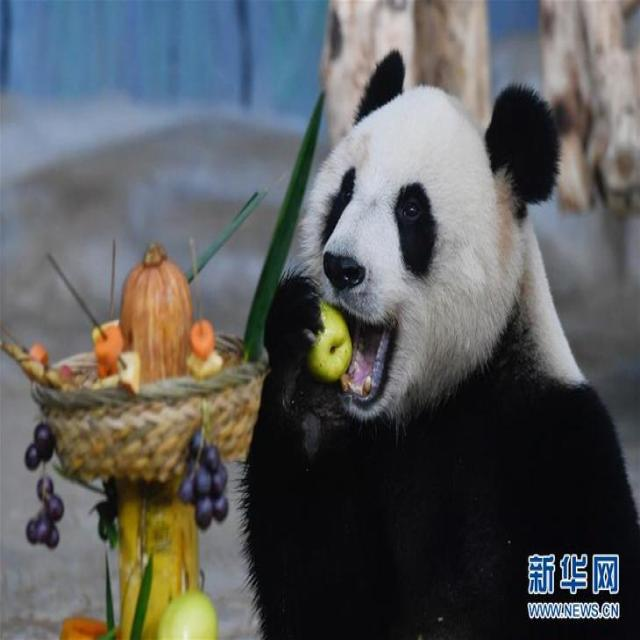panda: (218, 66, 580, 640)
